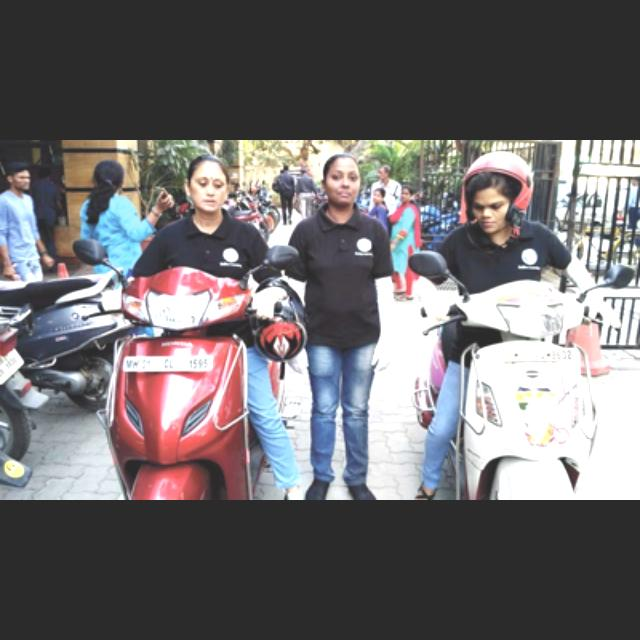With Helmet: (454, 147, 536, 241)
Without Helmet: (176, 146, 237, 218)
